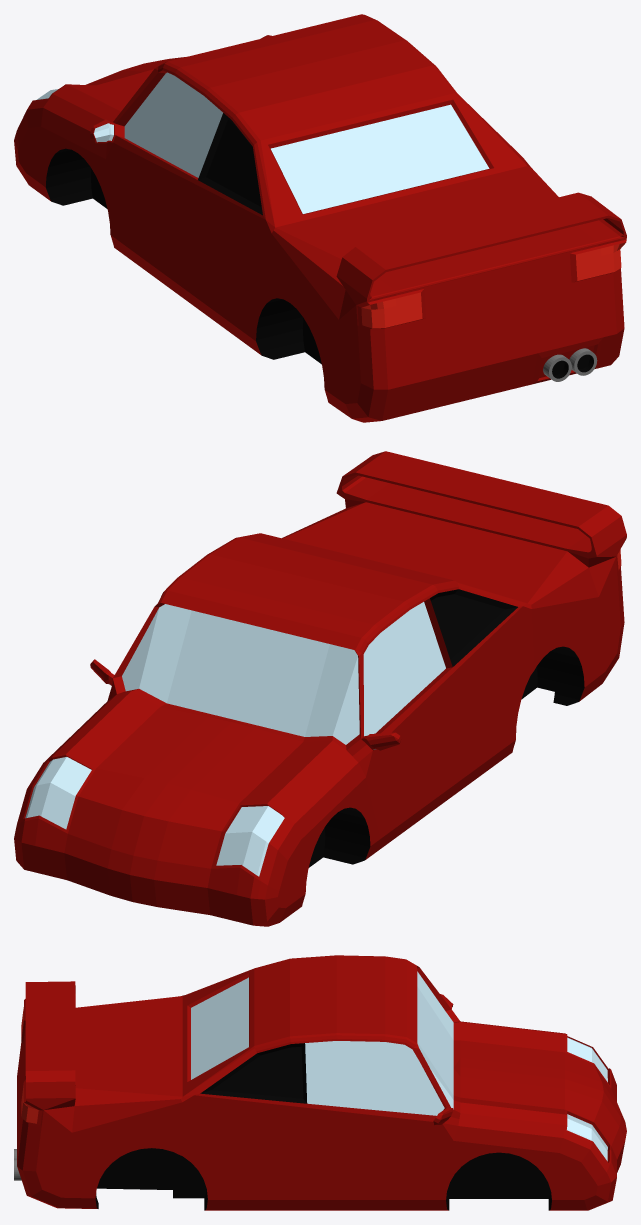
The model's file is Porcha.fbx.
The picture shows the model from 3 angles, top to bottom: view 1: azimuth 30°, elevation 25°; view 2: azimuth 150°, elevation 25°; view 3: azimuth 270°, elevation 25°; orthographic projection. The views are drawn at different scales.
Parts seen in each view (by area): view 1: Porcha; view 2: Porcha; view 3: Porcha.
Part boxes in pixels (left/top/right/bottom): Porcha: left=14, top=14, right=626, bottom=422; Porcha: left=14, top=451, right=626, bottom=926; Porcha: left=14, top=955, right=626, bottom=1210.
Bounding box in the file's own units: 141 × 91.16 × 297.
